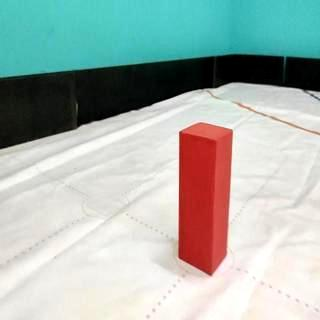redbox: (180, 121, 233, 277)
